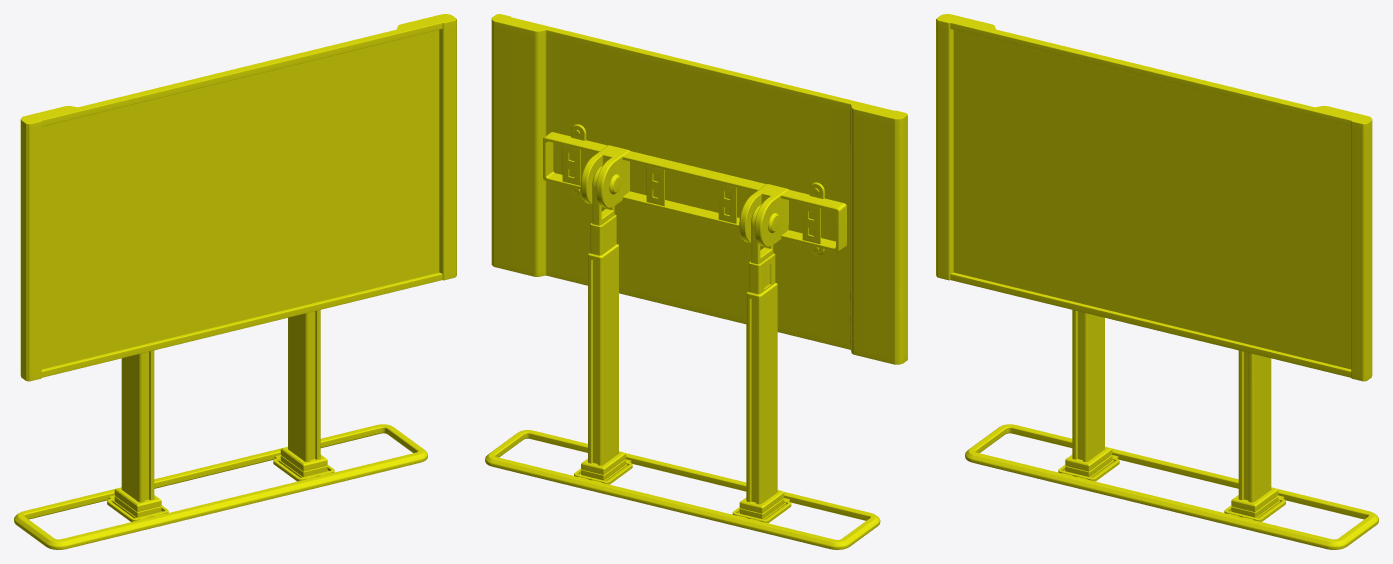
The model's file is immersiveTraining_screen.fbx.
The picture shows the model from 3 angles, left to right: view 1: azimuth 30°, elevation 25°; view 2: azimuth 150°, elevation 25°; view 3: azimuth 330°, elevation 25°; orthographic projection. The views are drawn at different scales.
Parts seen in each view (by area): view 1: screen, immersiveTraining_feet, immersiveTraining_legs; view 2: screen, immersiveTraining_legs, back_plate, immersiveTraining_feet; view 3: screen, immersiveTraining_feet, immersiveTraining_legs.
Boxes of the visible parts, box(x1,y1,x2,y2) form: screen: box(20, 14, 456, 381); immersiveTraining_feet: box(14, 424, 427, 549); immersiveTraining_legs: box(121, 310, 320, 502); screen: box(491, 14, 907, 364); immersiveTraining_legs: box(588, 166, 777, 504); back_plate: box(543, 124, 846, 255); immersiveTraining_feet: box(485, 430, 880, 549); screen: box(936, 14, 1372, 381); immersiveTraining_feet: box(965, 424, 1378, 549); immersiveTraining_legs: box(1072, 310, 1271, 502).
Size of the model in its own units: 382 by 367 by 68.79.
